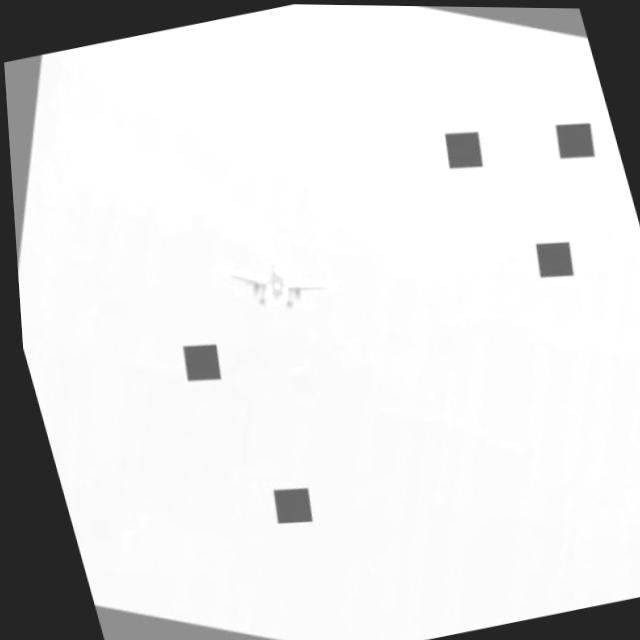aeroplane: (196, 228, 352, 338)
